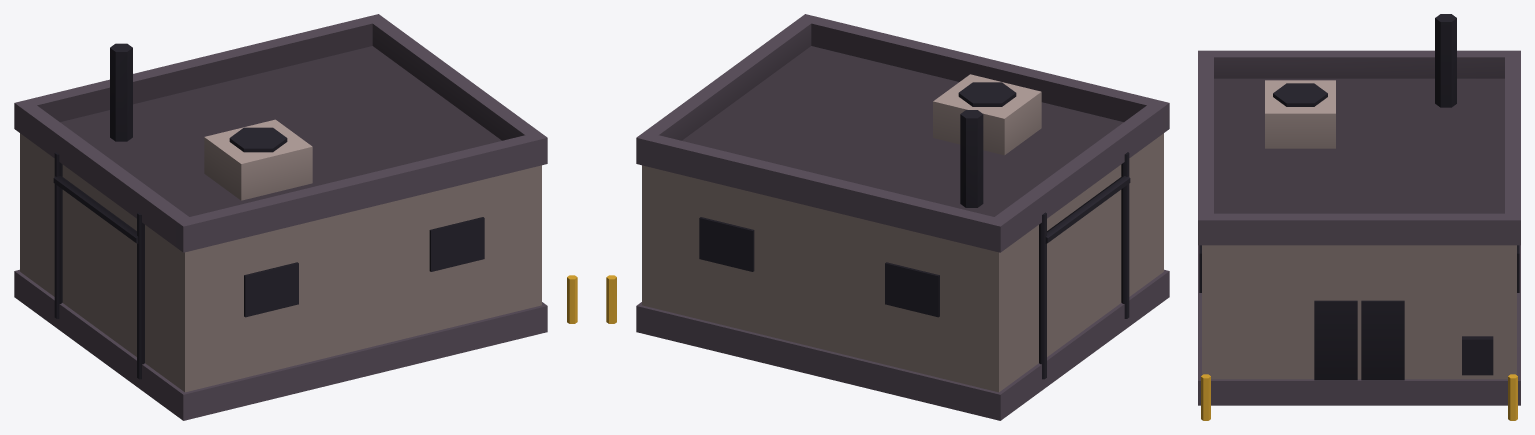
3 views of the same model, side by side, from view 1: azimuth 30°, elevation 25°; view 2: azimuth 150°, elevation 25°; view 3: azimuth 270°, elevation 25° (orthographic). The views are drawn at different scales.
Parts seen in each view (by area): view 1: body_pal_asphalt, body_pal_sidewalk, body_pal_uiDark, body_pal_schoolBusYellow; view 2: body_pal_asphalt, body_pal_sidewalk, body_pal_uiDark, body_pal_schoolBusYellow; view 3: body_pal_asphalt, body_pal_sidewalk, body_pal_uiDark, body_pal_schoolBusYellow.
Part boxes in pixels (x1,y1,x2,y2): body_pal_asphalt: (14, 14, 547, 420); body_pal_sidewalk: (20, 119, 541, 392); body_pal_uiDark: (53, 43, 484, 379); body_pal_schoolBusYellow: (567, 275, 577, 323); body_pal_asphalt: (636, 14, 1169, 420); body_pal_sidewalk: (642, 74, 1163, 392); body_pal_uiDark: (699, 82, 1130, 379); body_pal_schoolBusYellow: (606, 275, 616, 323); body_pal_asphalt: (1198, 50, 1520, 405); body_pal_sidewalk: (1202, 80, 1516, 379); body_pal_uiDark: (1199, 14, 1519, 380); body_pal_schoolBusYellow: (1201, 374, 1517, 420).
Size of the model in its own units: 11.23 by 7 by 8.2.
